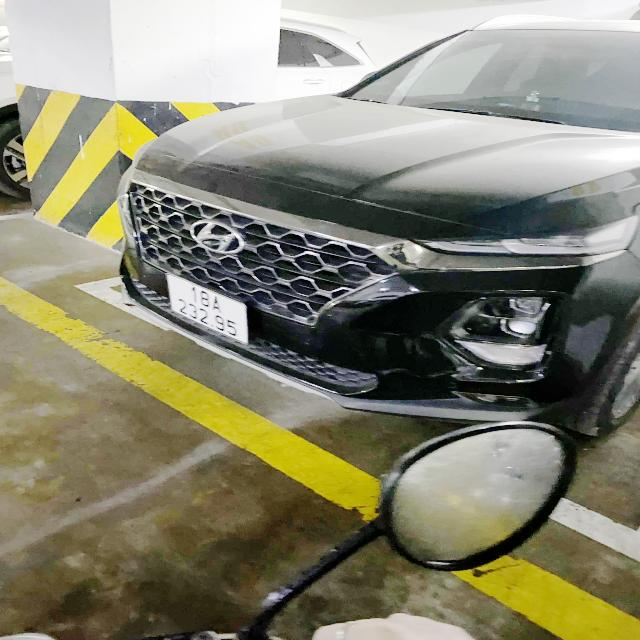license_plate: (163, 270, 252, 349)
